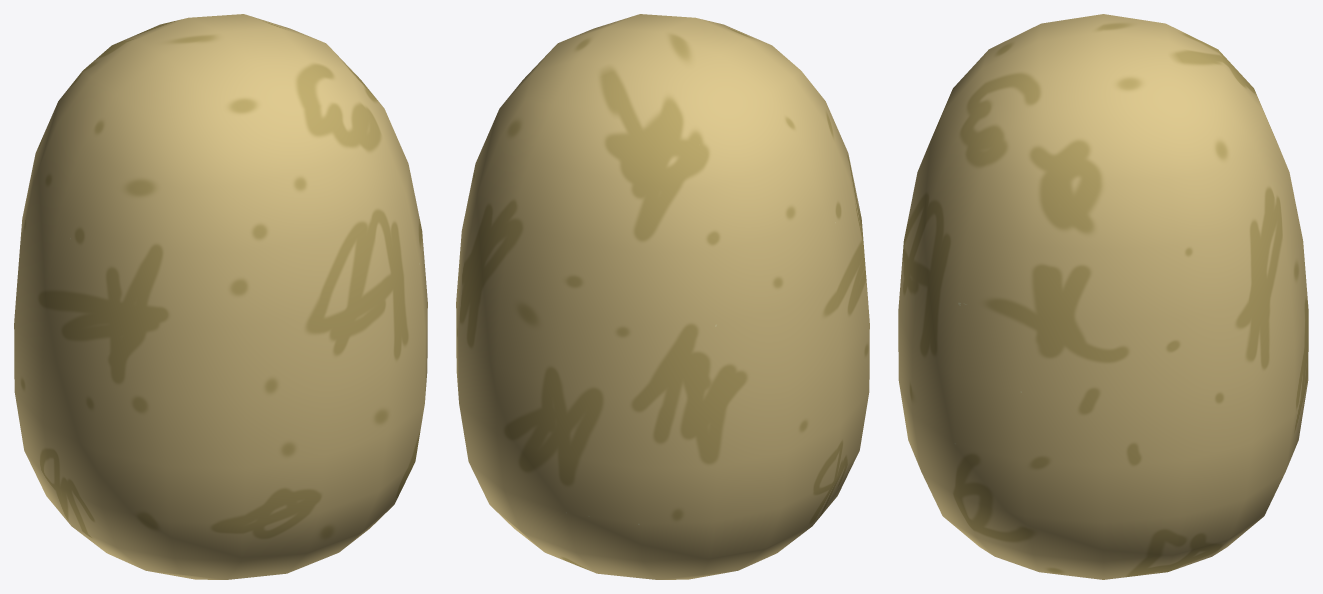
The model's file is Moneda_Huevo.fbx.
3 views of the same model, side by side, from view 1: azimuth 30°, elevation 25°; view 2: azimuth 150°, elevation 25°; view 3: azimuth 270°, elevation 25° (orthographic).
Parts seen in each view (by area): view 1: Cube.007; view 2: Cube.007; view 3: Cube.007.
Part boxes in pixels (left/top/right/bottom): Cube.007: left=14, top=14, right=427, bottom=579; Cube.007: left=456, top=14, right=869, bottom=579; Cube.007: left=898, top=14, right=1308, bottom=579.
Size of the model in its own units: 102 by 143 by 102.
Materials: 1 (1 with a texture image).
